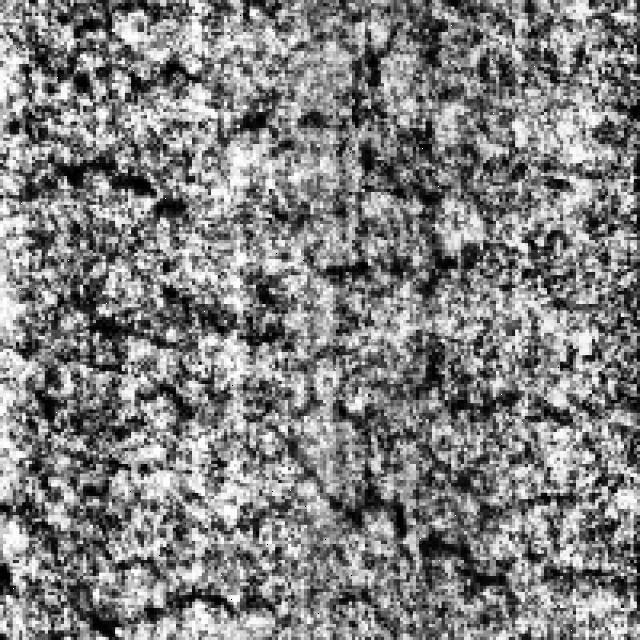Pitted_Surface: (304, 342, 630, 589)
